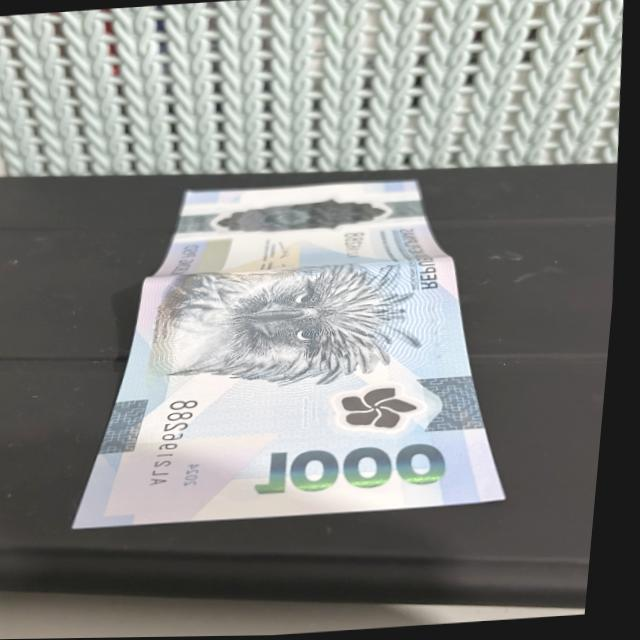clear_window: (205, 193, 396, 245)
eagle: (163, 252, 415, 391)
sampaguita: (340, 383, 434, 434)
